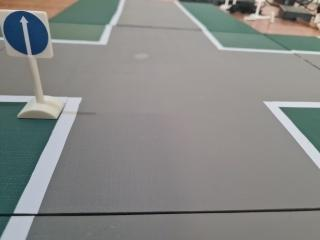straight: (1, 10, 58, 60)
